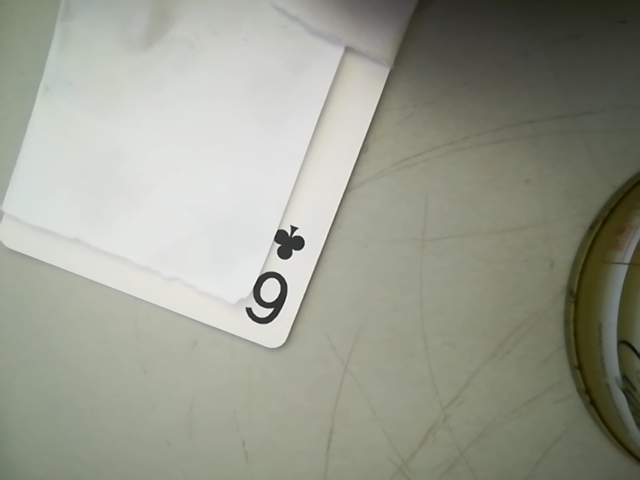mh 6: (240, 214, 314, 334)
